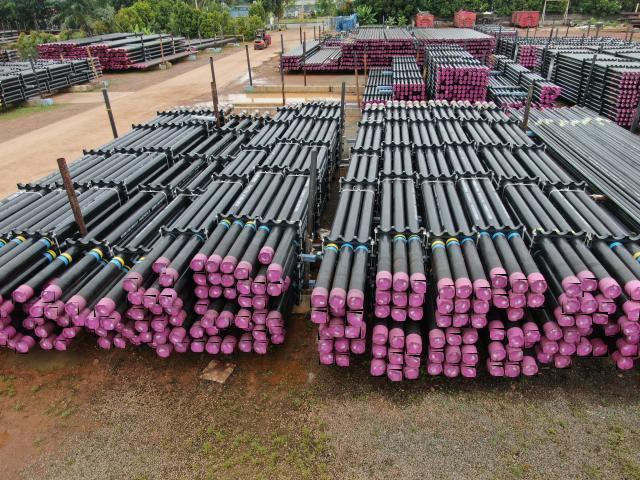pipe: (566, 284, 584, 298), (580, 300, 598, 314), (346, 297, 363, 311), (456, 285, 473, 299), (492, 294, 509, 308), (528, 295, 545, 309), (576, 314, 593, 328), (604, 285, 621, 299), (562, 300, 580, 313), (122, 278, 138, 292), (329, 295, 345, 309), (346, 312, 362, 326), (439, 285, 455, 299), (492, 274, 508, 288), (512, 279, 528, 293), (310, 295, 327, 308), (510, 295, 527, 308), (530, 280, 547, 293), (581, 278, 598, 291), (623, 323, 640, 336), (159, 274, 174, 288), (329, 324, 344, 338), (311, 310, 327, 323), (346, 326, 362, 339), (376, 278, 392, 291), (374, 306, 390, 319), (393, 279, 409, 292), (438, 301, 454, 314), (456, 301, 472, 314), (475, 287, 491, 300), (505, 364, 521, 377), (510, 335, 526, 348), (508, 309, 524, 322), (558, 314, 575, 326), (559, 344, 576, 356), (564, 332, 581, 344), (599, 302, 616, 314), (621, 346, 638, 358), (616, 358, 633, 370), (65, 302, 79, 316), (141, 295, 156, 308), (267, 283, 282, 296), (391, 308, 406, 321), (411, 280, 426, 293), (375, 293, 391, 305), (372, 333, 388, 345), (406, 342, 422, 354), (446, 334, 462, 346), (462, 333, 478, 345), (473, 302, 489, 314), (472, 316, 488, 328), (490, 350, 506, 362), (524, 330, 540, 342), (546, 330, 562, 342), (556, 357, 572, 369), (577, 346, 593, 358), (592, 312, 608, 324), (12, 291, 26, 304), (158, 295, 172, 308), (190, 259, 204, 272), (222, 275, 236, 288), (266, 270, 280, 283), (44, 307, 59, 319), (84, 318, 99, 330), (100, 318, 115, 330), (205, 261, 220, 273), (234, 268, 249, 280), (318, 328, 333, 340), (350, 343, 365, 355), (387, 369, 402, 381), (388, 352, 403, 364), (389, 336, 404, 348), (405, 355, 420, 367), (392, 294, 407, 306), (409, 295, 424, 307), (437, 315, 452, 327), (430, 337, 445, 349), (429, 351, 444, 363), (446, 352, 461, 364), (444, 365, 459, 377), (454, 316, 469, 328), (490, 328, 505, 340), (593, 345, 608, 357), (370, 366, 386, 377), (460, 366, 476, 377), (462, 353, 478, 364), (522, 365, 538, 376), (542, 343, 558, 354), (577, 325, 593, 336), (605, 325, 621, 336), (30, 306, 44, 318), (71, 315, 85, 327), (127, 293, 141, 305), (130, 308, 144, 320), (135, 320, 149, 332), (148, 304, 162, 316), (150, 320, 164, 332), (192, 273, 206, 285), (194, 286, 208, 298), (205, 342, 219, 354), (209, 287, 223, 299), (220, 262, 234, 274), (238, 340, 252, 352), (235, 316, 249, 328), (252, 298, 266, 310), (334, 342, 348, 354), (319, 353, 333, 365), (372, 348, 386, 360), (404, 368, 418, 380), (408, 308, 422, 320), (428, 364, 442, 376), (94, 306, 109, 317), (318, 342, 333, 353), (489, 365, 504, 376), (508, 351, 523, 362), (537, 353, 553, 363), (15, 342, 28, 354), (22, 319, 35, 331), (57, 316, 70, 328), (208, 273, 221, 285), (217, 318, 230, 330), (221, 342, 234, 354), (253, 342, 266, 354), (628, 308, 640, 321), (34, 327, 48, 338), (41, 292, 55, 303), (62, 328, 76, 339), (122, 327, 136, 338), (139, 332, 153, 343), (152, 264, 166, 275), (168, 316, 182, 327), (189, 328, 203, 339), (191, 341, 205, 352), (202, 317, 216, 328), (223, 289, 237, 300), (238, 296, 252, 307), (236, 283, 250, 294), (258, 253, 272, 264), (252, 283, 266, 294), (252, 313, 266, 324), (266, 318, 280, 329), (164, 305, 178, 316), (335, 355, 349, 366), (626, 332, 640, 343), (330, 307, 345, 317), (94, 326, 107, 337), (154, 333, 167, 344), (156, 347, 169, 358), (168, 334, 182, 344), (252, 330, 266, 340), (630, 287, 640, 301), (98, 338, 110, 349), (113, 337, 125, 348), (53, 340, 66, 350), (194, 304, 207, 314), (206, 326, 219, 336), (271, 335, 284, 345), (22, 303, 33, 314), (40, 340, 52, 350), (174, 343, 187, 352), (269, 326, 282, 335), (0, 332, 9, 343), (7, 339, 16, 349), (0, 307, 7, 318), (0, 338, 7, 346)
